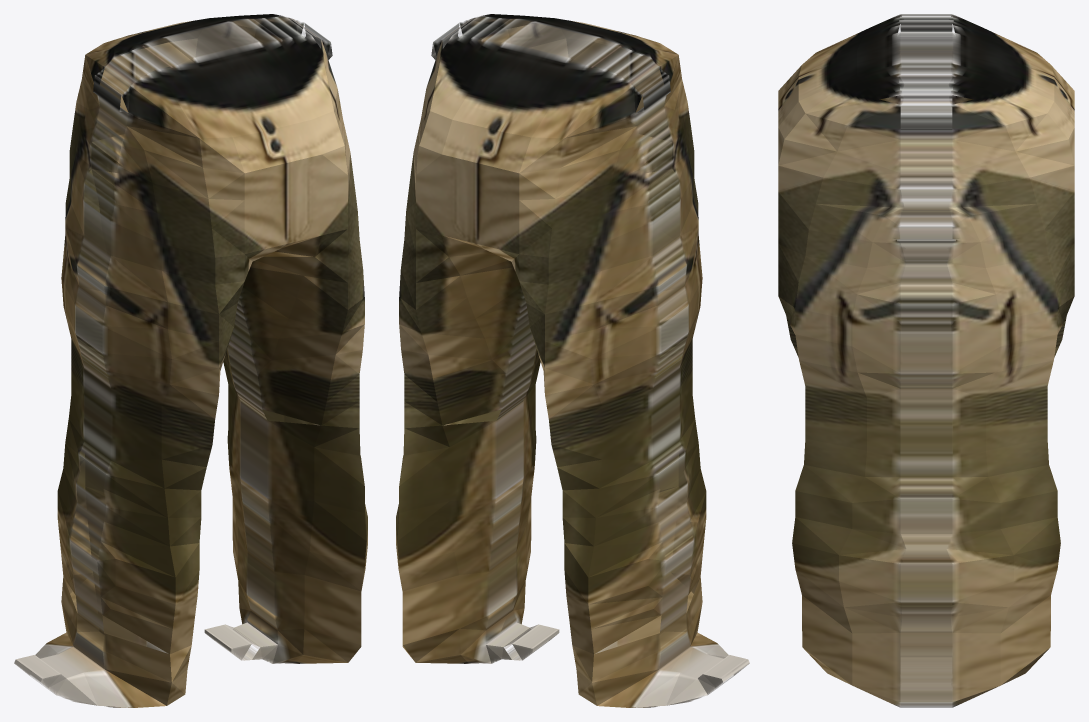
The model's file is bell-nomad-riding-trouser-033.glb.
3 views of the same model, side by side, from view 1: azimuth 30°, elevation 25°; view 2: azimuth 150°, elevation 25°; view 3: azimuth 270°, elevation 25° (orthographic). The views are drawn at different scales.
Visible parts, largest first — view 1: world; view 2: world; view 3: world.
Boxes of the visible parts, bbox=[...] form: world: bbox=[14, 14, 367, 707]; world: bbox=[396, 14, 749, 707]; world: bbox=[778, 14, 1074, 707].
Size of the model in its own units: 0.5214 by 1 by 0.44.
Materials: 1 (1 with a texture image).
